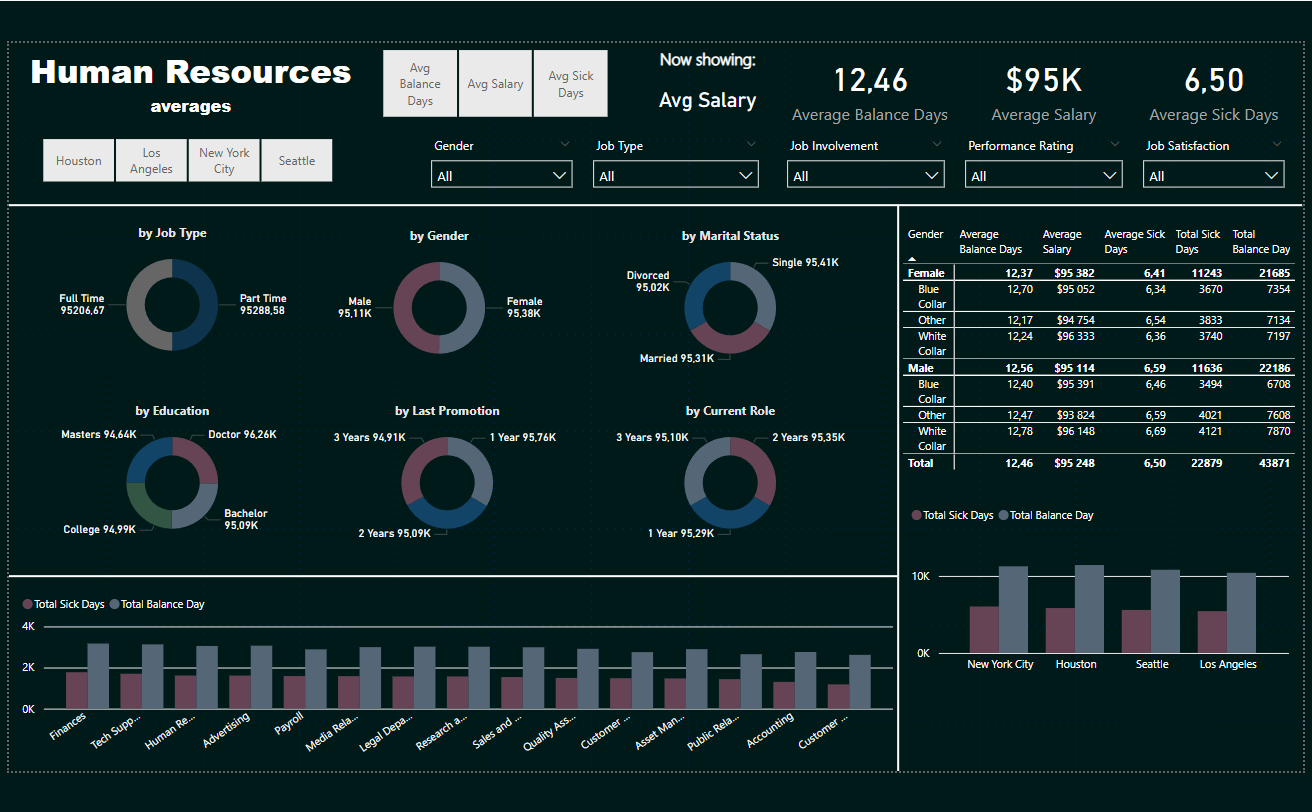

What the dashboard file says about the page in this screenshot:
{"tool":"powerbi","page":{"name":"Averages","canvas":[1280,720],"ordinal":1},"visuals":[{"type":"textbox","box":[8,0,344,80],"z":0},{"type":"card","fields":{"Values":["AllMeasures.Average Salary"]},"box":[936,0,176,88],"z":1000},{"type":"card","fields":{"Values":["AllMeasures.Average Balance Days"]},"box":[768,0,168,88],"z":2000},{"type":"card","fields":{"Values":["AllMeasures.Average Sick Days"]},"box":[1112,0,160,88],"z":3000},{"type":"slicer","fields":{"Values":["AvgMetrics.Measure"]},"box":[344,0,272,80],"z":4000},{"type":"textbox","box":[616,0,152,32],"z":5000},{"type":"card","fields":{"Values":["AllMeasures.Measure Selection Avg"]},"box":[616,24,152,64],"z":6000},{"type":"donutChart","title":"by Gender","fields":{"Y":["AllMeasures.Measure Logic Avg"],"Category":["Human Resources.Gender"]},"box":[305.8,182.1,240,144],"z":7000},{"type":"donutChart","title":"by Marital Status","fields":{"Y":["AllMeasures.Measure Logic Avg"],"Category":["Human Resources.Marital Status"]},"box":[593.8,182.1,240,144],"z":8000},{"type":"donutChart","title":" by Education","fields":{"Category":["Human Resources.Education"],"Y":["AllMeasures.Measure Logic Avg"]},"box":[41.8,355.1,240,144],"z":9000},{"type":"donutChart","title":" by Last Promotion","fields":{"Y":["AllMeasures.Measure Logic Avg"],"Category":["Human Resources.Years since last promition"]},"box":[313.8,355.1,240,144],"z":10000},{"type":"donutChart","title":"by Current Role","fields":{"Category":["Human Resources.Years in current role"],"Y":["AllMeasures.Measure Logic Avg"]},"box":[593.8,355.1,240,144],"z":11000},{"type":"donutChart","title":"by Job Type","fields":{"Category":["Human Resources.Job Type"],"Y":["AllMeasures.Measure Logic Avg"]},"box":[41.8,179.1,240,144],"z":12000},{"type":"shape","box":[864,160,32,368],"z":13000},{"type":"shape","box":[0,144,880,32],"z":14000},{"type":"shape","box":[0,512,880,32],"z":15000},{"type":"shape","box":[880,144,400,32],"z":16000},{"type":"shape","box":[864,528,32,192],"z":17000},{"type":"slicer","fields":{"Values":["Human Resources.Business Unit"]},"box":[8,88,336,56],"z":18000},{"type":"slicer","fields":{"Values":["Human Resources.Gender"]},"box":[408,88,160,56],"z":19000},{"type":"slicer","fields":{"Values":["Human Resources.Job Type"]},"box":[568,88,184,56],"z":20000},{"type":"slicer","fields":{"Values":["Human Resources.Job Involvement"]},"box":[760,88,176,56],"z":21000},{"type":"slicer","fields":{"Values":["Human Resources.Performance Rating"]},"box":[936,88,176,56],"z":22000},{"type":"slicer","fields":{"Values":["Human Resources.Job Satisfaction"]},"box":[1112,88,160,56],"z":23000},{"type":"clusteredColumnChart","fields":{"Category":["Human Resources.Departmets"],"Y":["AllMeasures.Total Sick Days","AllMeasures.Total Balance Day"]},"box":[8,536,872,176],"z":24000},{"type":"clusteredColumnChart","fields":{"Category":["Human Resources.Business Unit"],"Y":["AllMeasures.Total Sick Days","AllMeasures.Total Balance Day"]},"box":[888,448,384,184],"z":25000},{"type":"pivotTable","fields":{"Rows":["Human Resources.Gender","Human Resources.Job Classification"],"Values":["AllMeasures.Average Balance Days","AllMeasures.Average Salary","AllMeasures.Average Sick Days","AllMeasures.Total Sick Days","AllMeasures.Total Balance Day"]},"box":[880,176,400,256],"z":26000}]}

Visuals, with their boxes on the page's 1280x720 design canvas (x1, y1, x2, y2). These are canvas units, not pixel positions in the 1312x812 screenshot, which may show the page scaled, cropped or inside an application window:
textbox: <region>8, 0, 352, 80</region>
card - AllMeasures.Average Salary: <region>936, 0, 1112, 88</region>
card - AllMeasures.Average Balance Days: <region>768, 0, 936, 88</region>
card - AllMeasures.Average Sick Days: <region>1112, 0, 1272, 88</region>
slicer - AvgMetrics.Measure: <region>344, 0, 616, 80</region>
textbox: <region>616, 0, 768, 32</region>
card - AllMeasures.Measure Selection Avg: <region>616, 24, 768, 88</region>
"by Gender" donutChart: <region>306, 182, 546, 326</region>
"by Marital Status" donutChart: <region>594, 182, 834, 326</region>
" by Education" donutChart: <region>42, 355, 282, 499</region>
" by Last Promotion" donutChart: <region>314, 355, 554, 499</region>
"by Current Role" donutChart: <region>594, 355, 834, 499</region>
"by Job Type" donutChart: <region>42, 179, 282, 323</region>
shape: <region>864, 160, 896, 528</region>
shape: <region>0, 144, 880, 176</region>
shape: <region>0, 512, 880, 544</region>
shape: <region>880, 144, 1280, 176</region>
shape: <region>864, 528, 896, 720</region>
slicer - Human Resources.Business Unit: <region>8, 88, 344, 144</region>
slicer - Human Resources.Gender: <region>408, 88, 568, 144</region>
slicer - Human Resources.Job Type: <region>568, 88, 752, 144</region>
slicer - Human Resources.Job Involvement: <region>760, 88, 936, 144</region>
slicer - Human Resources.Performance Rating: <region>936, 88, 1112, 144</region>
slicer - Human Resources.Job Satisfaction: <region>1112, 88, 1272, 144</region>
clusteredColumnChart - Human Resources.Departmets x AllMeasures.Total Sick Days: <region>8, 536, 880, 712</region>
clusteredColumnChart - Human Resources.Business Unit x AllMeasures.Total Sick Days: <region>888, 448, 1272, 632</region>
pivotTable - Human Resources.Gender x Human Resources.Job Classification: <region>880, 176, 1280, 432</region>
